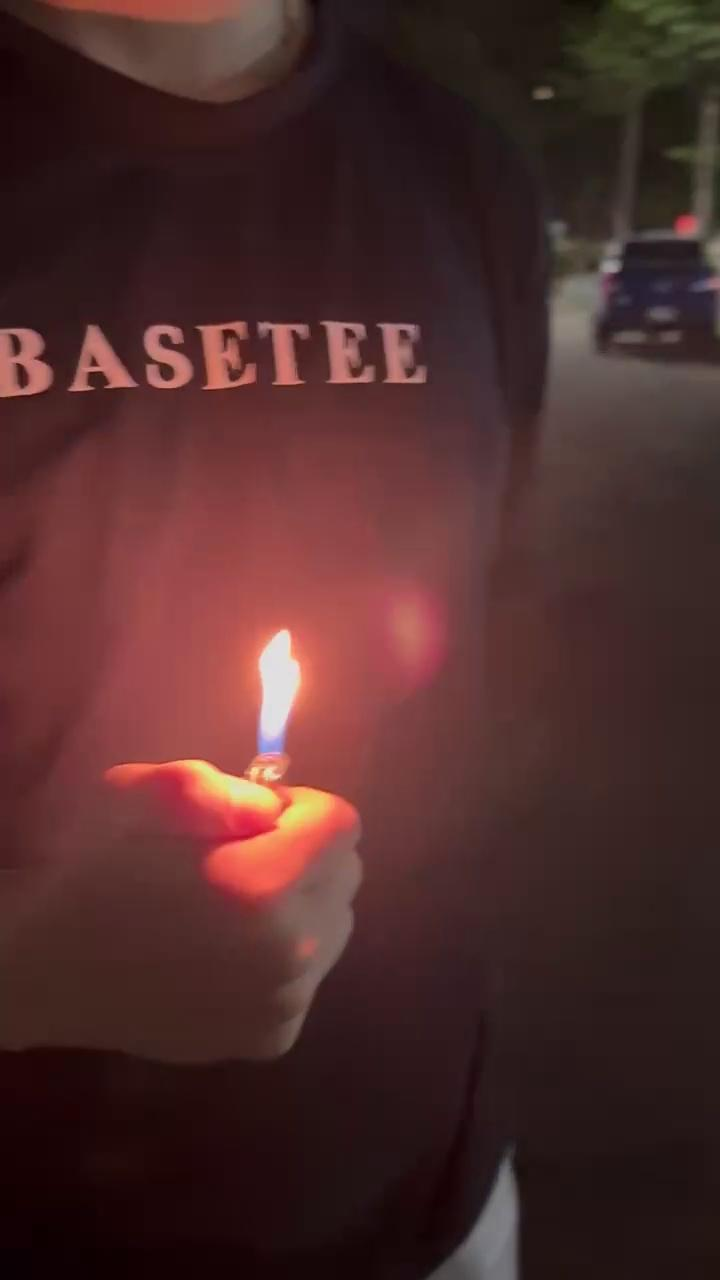Fire: (240, 602, 332, 785)
